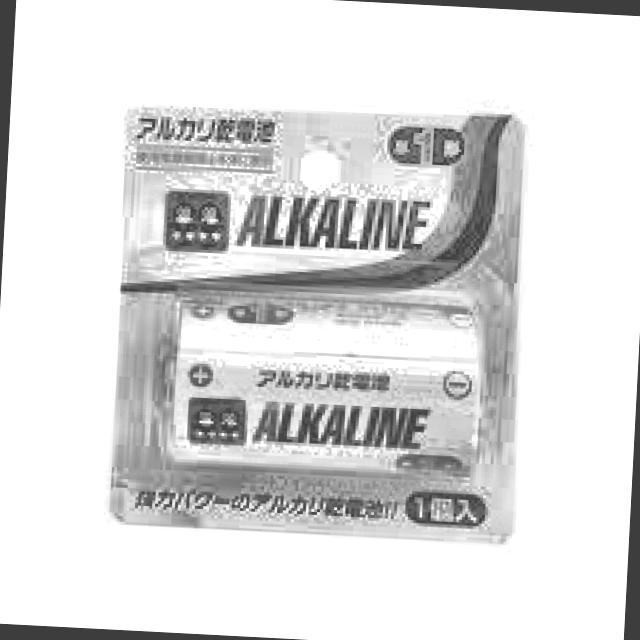drycell: (156, 289, 492, 491)
